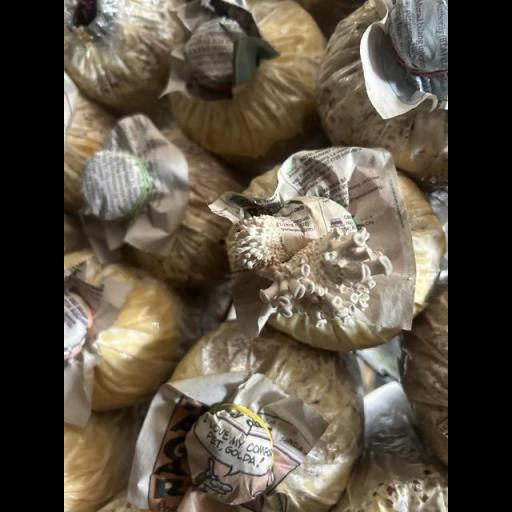White Oyster Mushroom: (218, 197, 403, 331)
